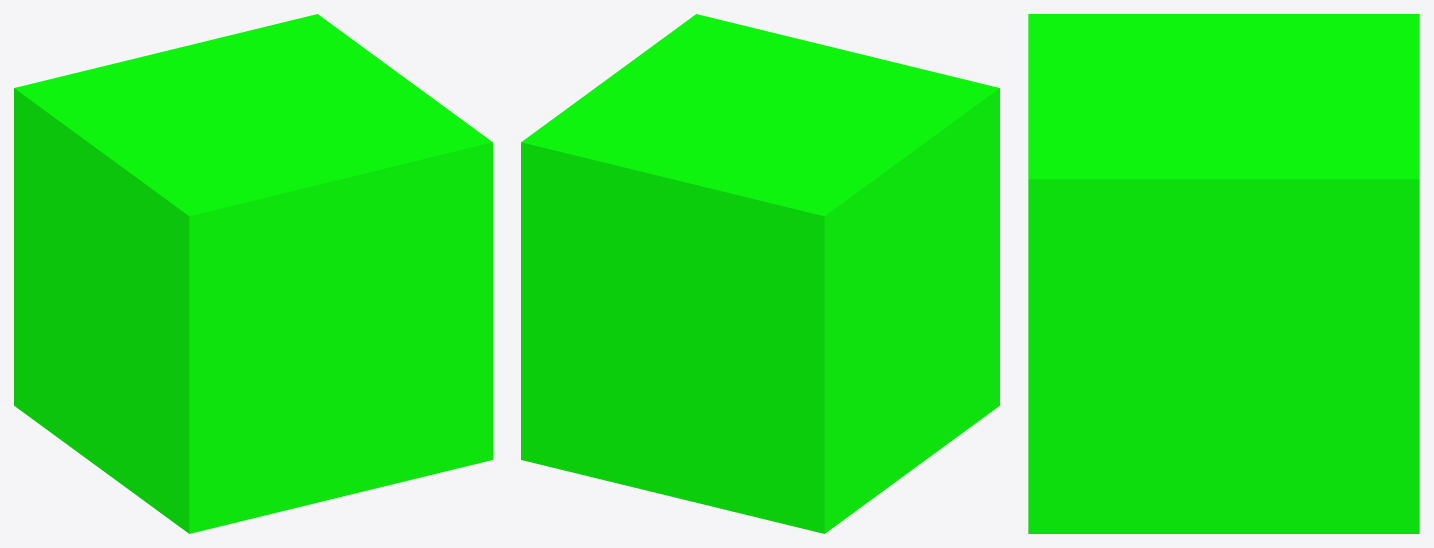
3 renders of one model, left to right at view 1: azimuth 30°, elevation 25°; view 2: azimuth 150°, elevation 25°; view 3: azimuth 270°, elevation 25°, orthographic. The views are drawn at different scales.
Size of the model in its own units: 450 by 450 by 450.
